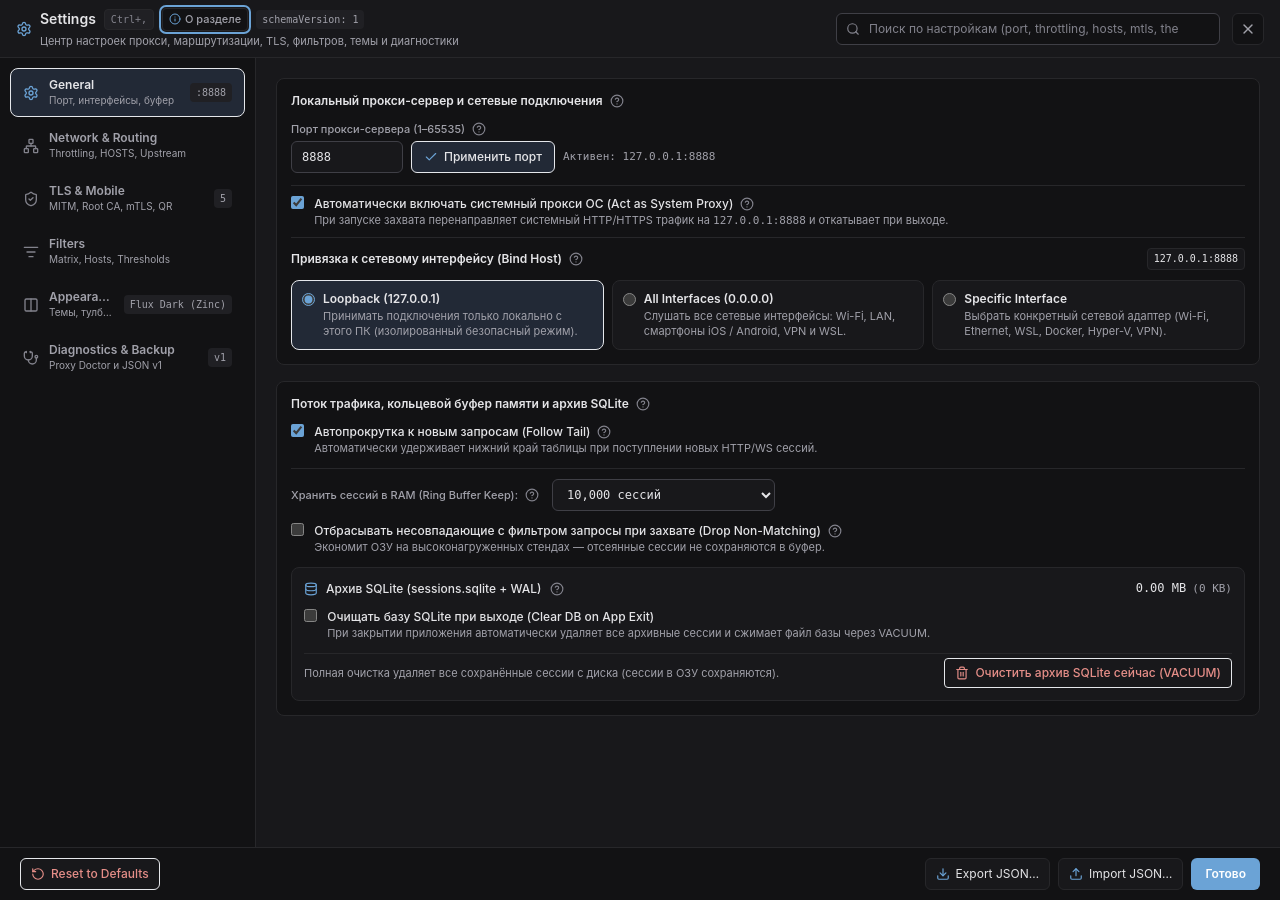
Scenario: SettingsModal (Unified Fullscreen Settings Hub) › filters cross-section settings search results and jumps to target tab on click
The width and height of the screenshot is (1280, 900).
Replace the text in the search field labelled "Поиск по настройкам" with "throttling": [1028, 28] box x1=836 y1=12 x2=1220 y2=44
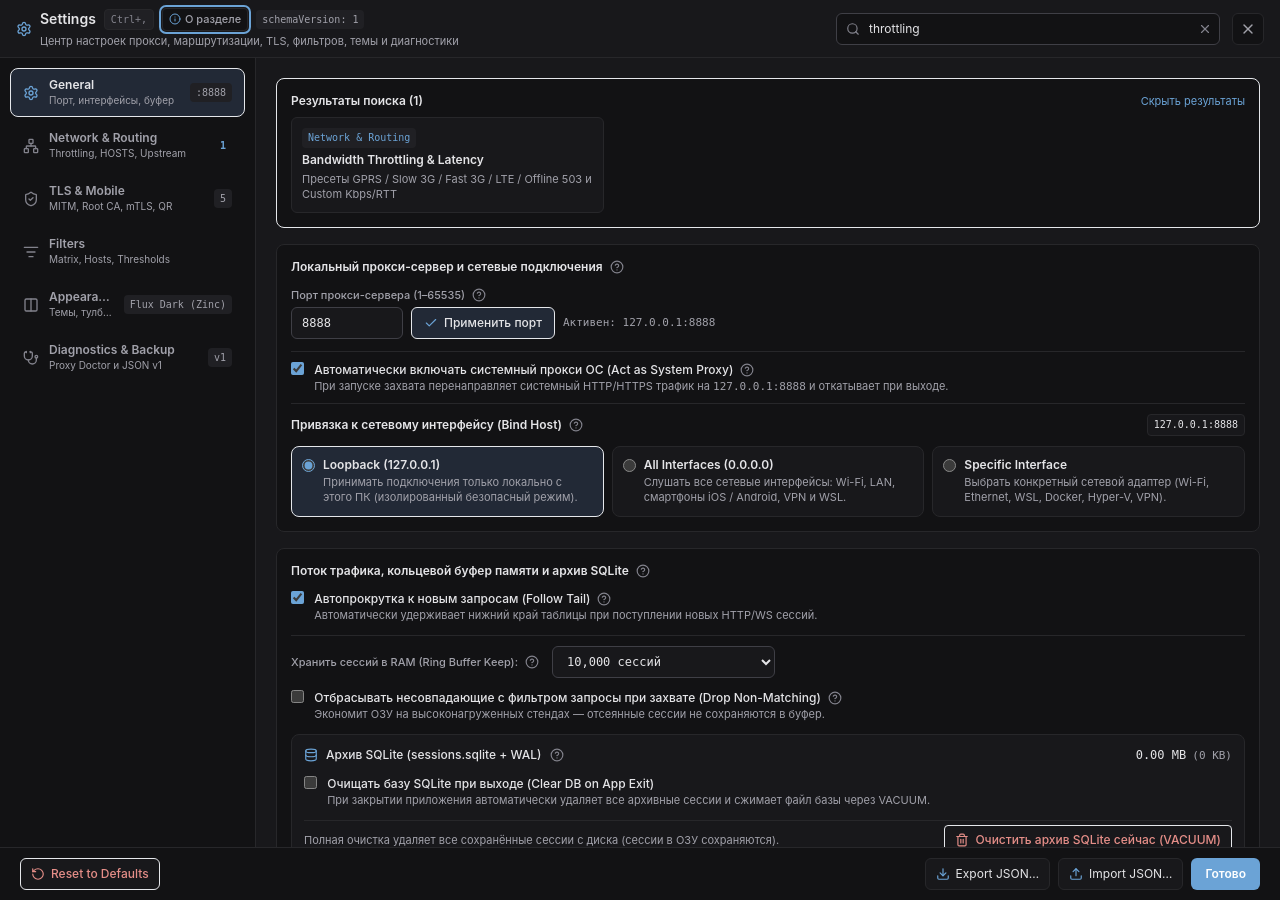
Click the button "Bandwidth Throttling & Latency": [447, 165] box x1=291 y1=117 x2=604 y2=213
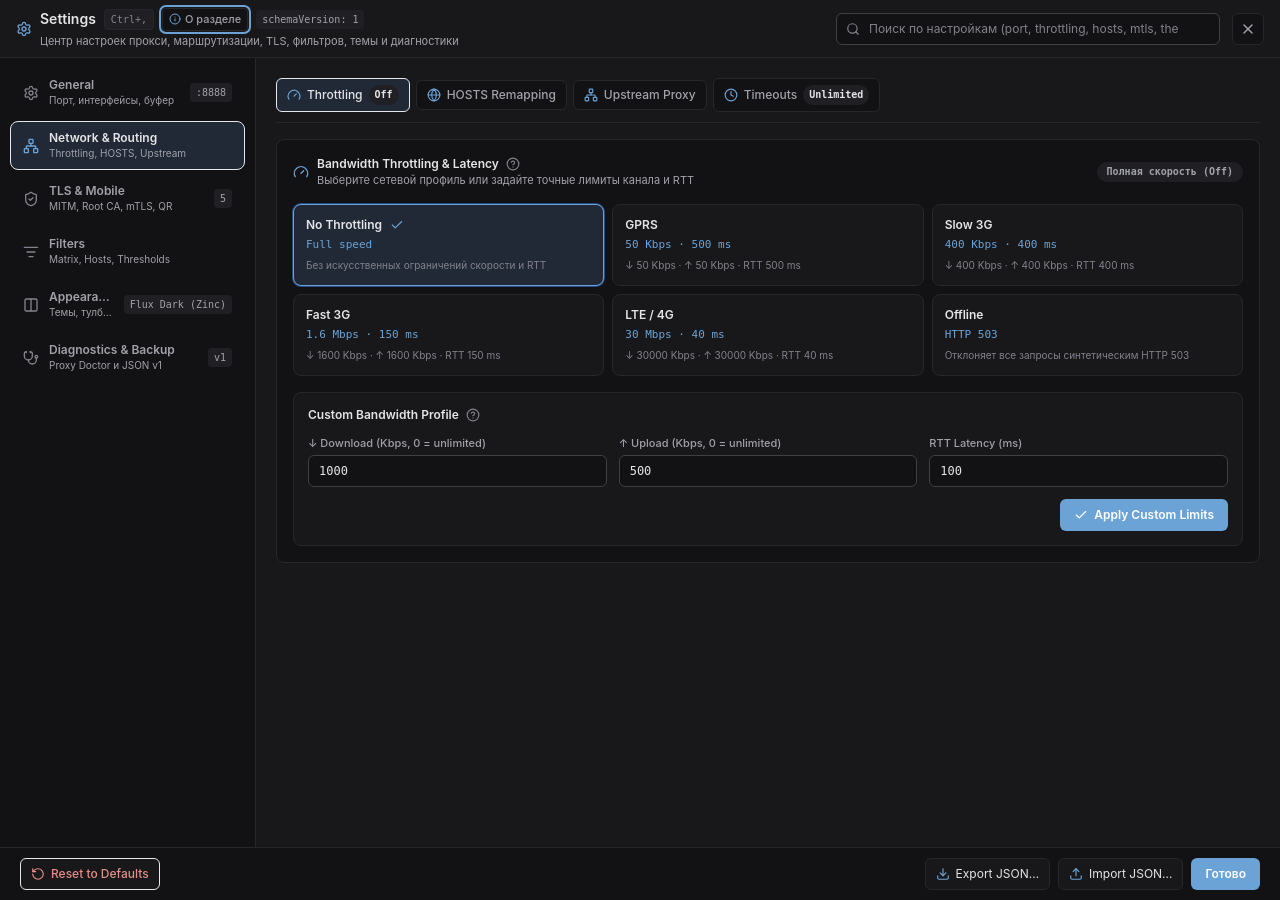
Now the element with id "throttling-section" is shown, box x1=276 y1=139 x2=1260 y2=563
